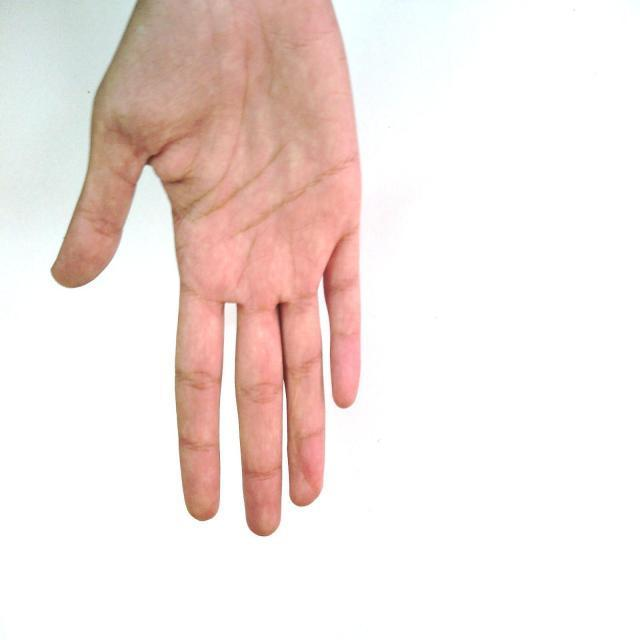hand: (50, 0, 363, 536)
